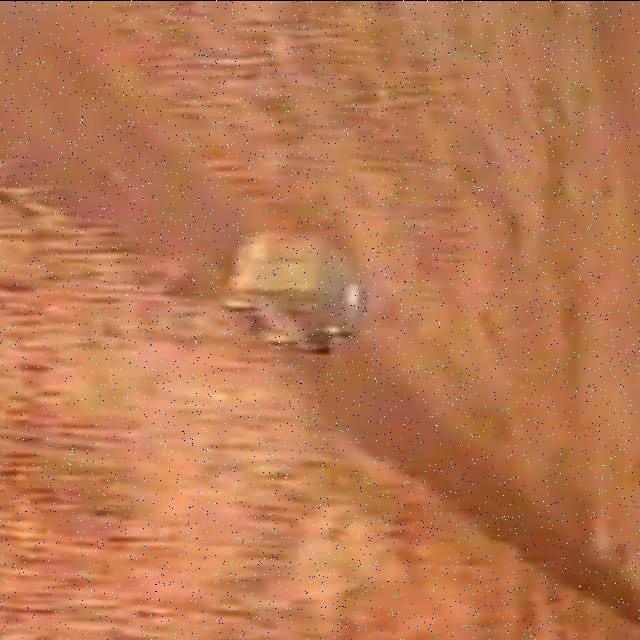CAR: (217, 232, 373, 356)
